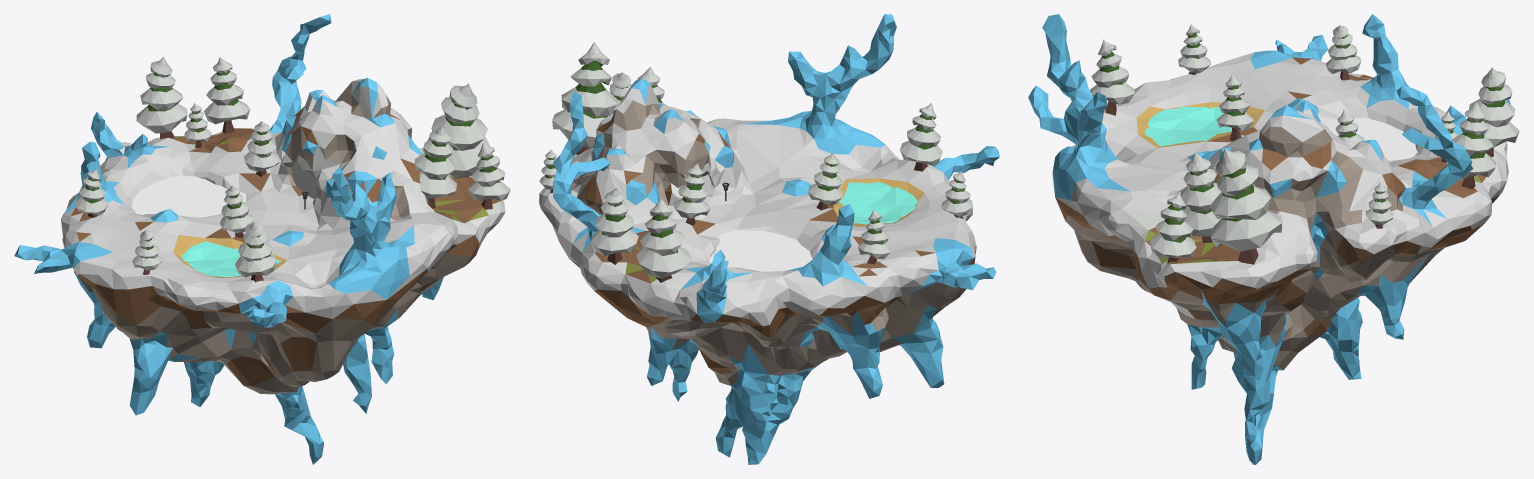
The model's file is Island.fbx.
3 renders of one model, left to right at view 1: azimuth 30°, elevation 25°; view 2: azimuth 150°, elevation 25°; view 3: azimuth 270°, elevation 25°, orthographic. The views are drawn at different scales.
Parts seen in each view (by area): view 1: Island; view 2: Island; view 3: Island.
Boxes of the visible parts, bbox=[...] form: Island: bbox=[14, 14, 510, 464]; Island: bbox=[539, 14, 999, 464]; Island: bbox=[1028, 14, 1519, 464].
Size of the model in its own units: 30390 by 25277 by 26682.
